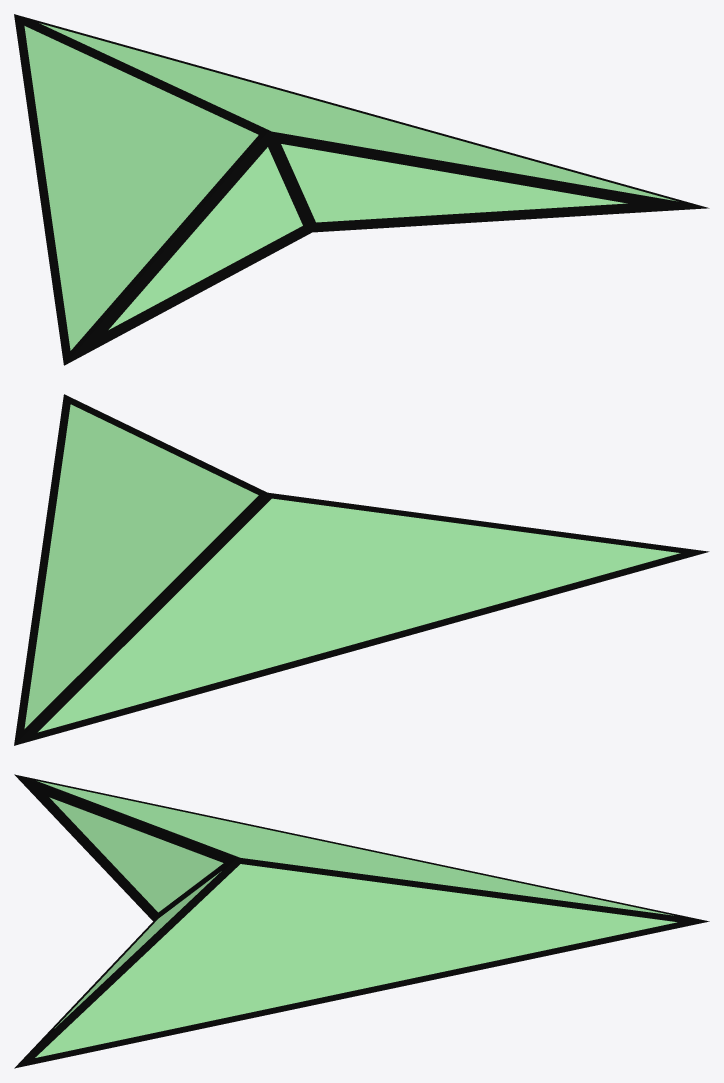
File: LocationMarker_g.glb
3 views of the same model, one above another, from view 1: azimuth 30°, elevation 25°; view 2: azimuth 150°, elevation 25°; view 3: azimuth 270°, elevation 25° (orthographic). The views are drawn at different scales.
Visible parts, largest first — view 1: /LocationMarker_v1/Body1, /LocationMarker_v1/Body2; view 2: /LocationMarker_v1/Body1, /LocationMarker_v1/Body2; view 3: /LocationMarker_v1/Body1, /LocationMarker_v1/Body2.
Boxes of the visible parts, x1,y1,x2,y2 form: /LocationMarker_v1/Body1: (24, 23, 676, 350); /LocationMarker_v1/Body2: (14, 14, 709, 365); /LocationMarker_v1/Body1: (24, 404, 680, 732); /LocationMarker_v1/Body2: (14, 394, 709, 745); /LocationMarker_v1/Body1: (35, 781, 676, 1057); /LocationMarker_v1/Body2: (14, 774, 709, 1068).
Bounding box in the file's own units: 50.22 × 5.02 × 50.22.
